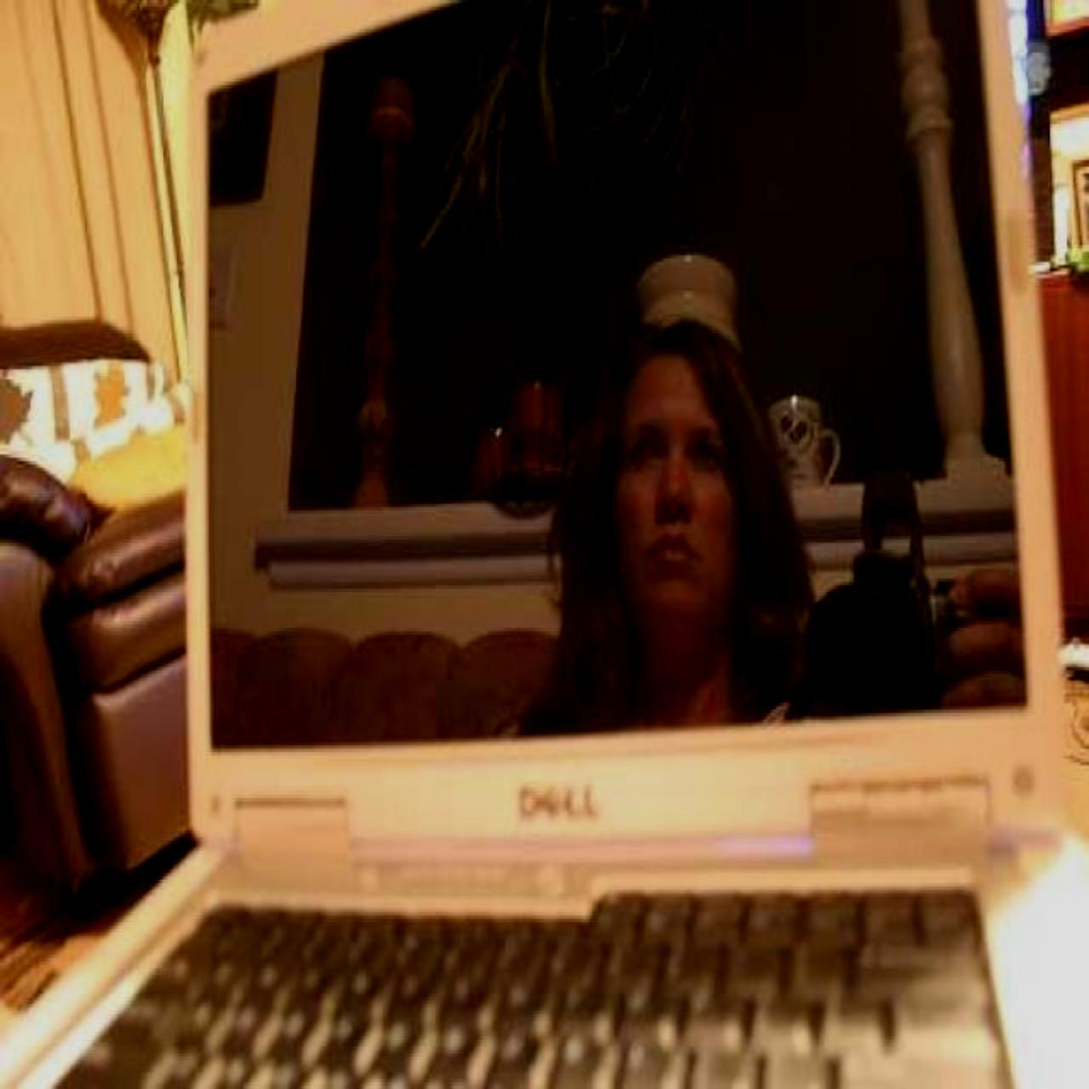laptop: (100, 42, 1084, 1088)
